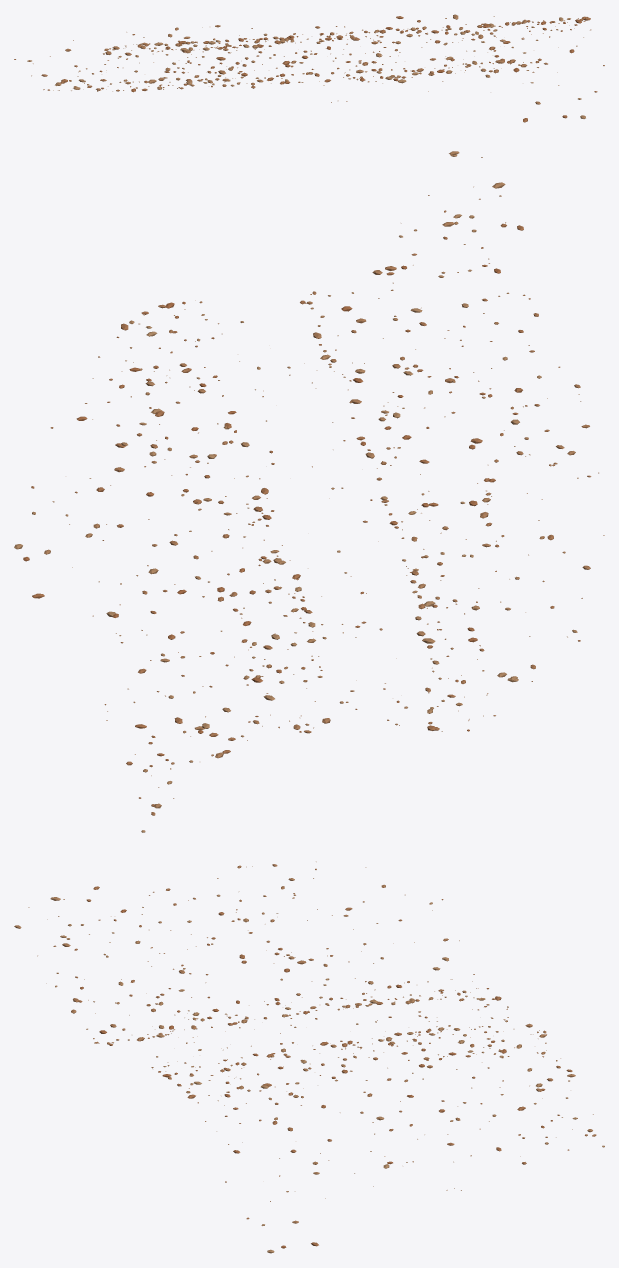
File: terrain-110.glb
The picture shows the model from 3 angles, top to bottom: view 1: azimuth 30°, elevation 25°; view 2: azimuth 150°, elevation 25°; view 3: azimuth 270°, elevation 25°; orthographic projection. The views are drawn at different scales.
Parts seen in each view (by area): view 1: terrain-110; view 2: terrain-110; view 3: terrain-110.
Boxes of the visible parts, x1=… form: terrain-110: x1=14, y1=14, x2=604, y2=122; terrain-110: x1=14, y1=151, x2=604, y2=832; terrain-110: x1=14, y1=861, x2=604, y2=1253.
Size of the model in its own units: 67.86 by 34.59 by 70.74.
